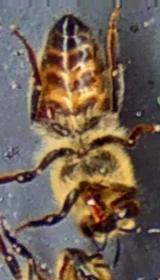varroa_mite: (26, 90, 66, 130)
